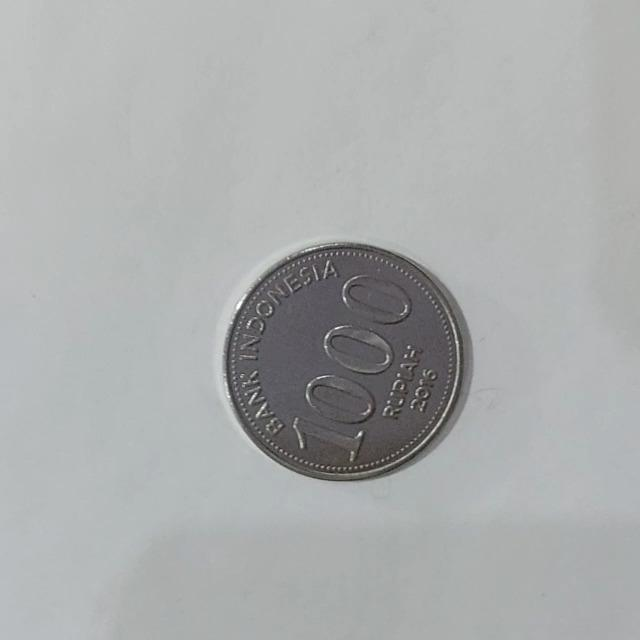Rp100: (221, 238, 471, 482)
